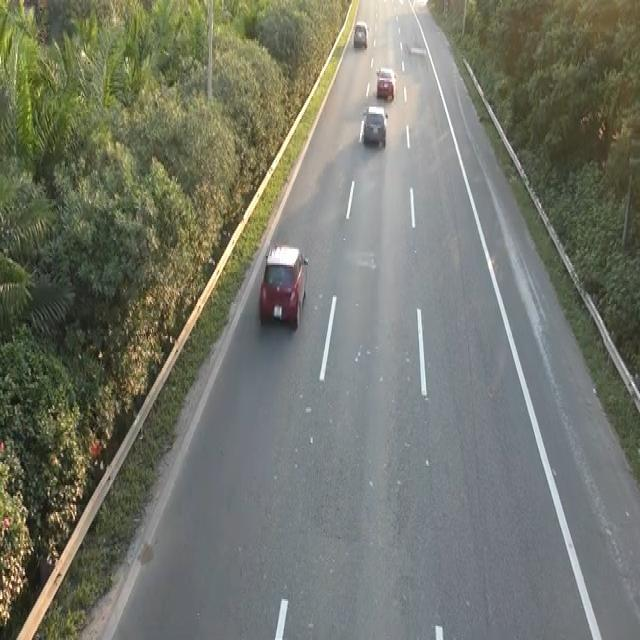bus: (257, 240, 309, 331)
